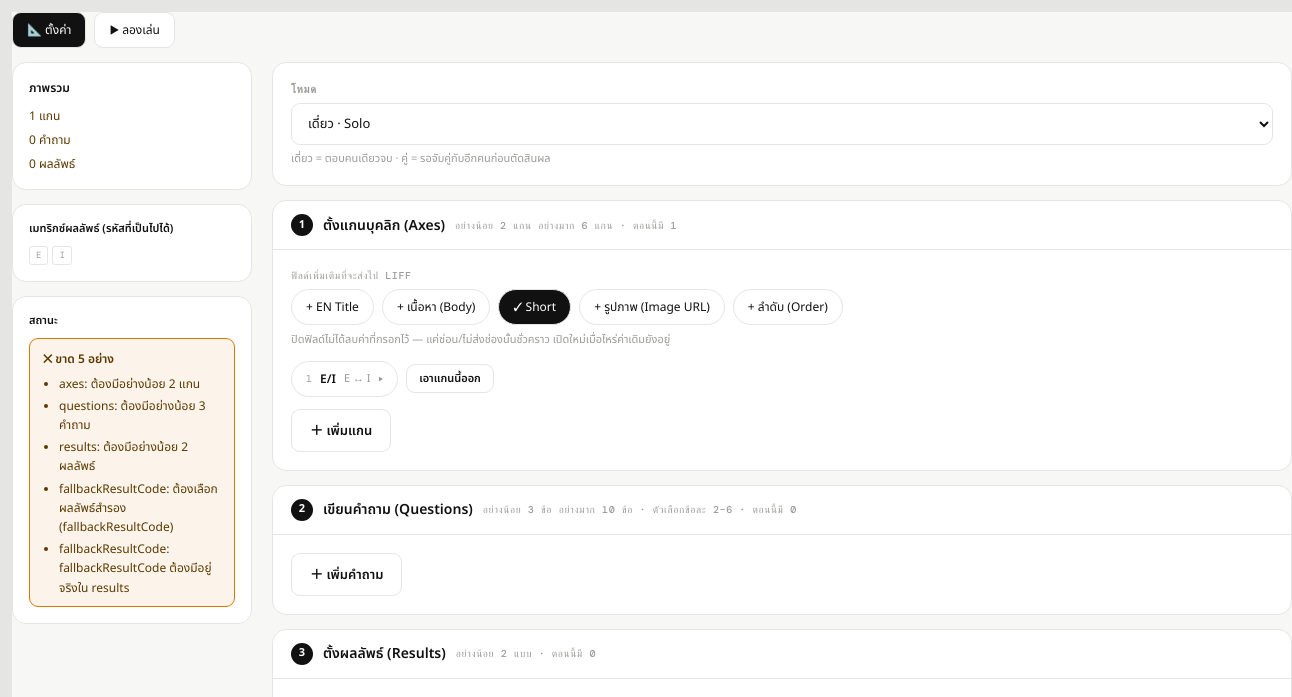
Test: ฟิลด์เสริมของแกน (labelEn/body/short/imageUrl/order) — ปุ่ม toggle ระดับทั้งลิสต์ › โหลด config ที่มีแกนซึ่งตั้ง short ไว้ก่อนแล้ว — ปุ่ม Short เปิดอยู่เองตั้งแต่โหลดหน้า ไม่ต้องกดเอง
Click the button "1 E/I E ↔ I ▸" at (345, 379), box [291, 361, 398, 397]
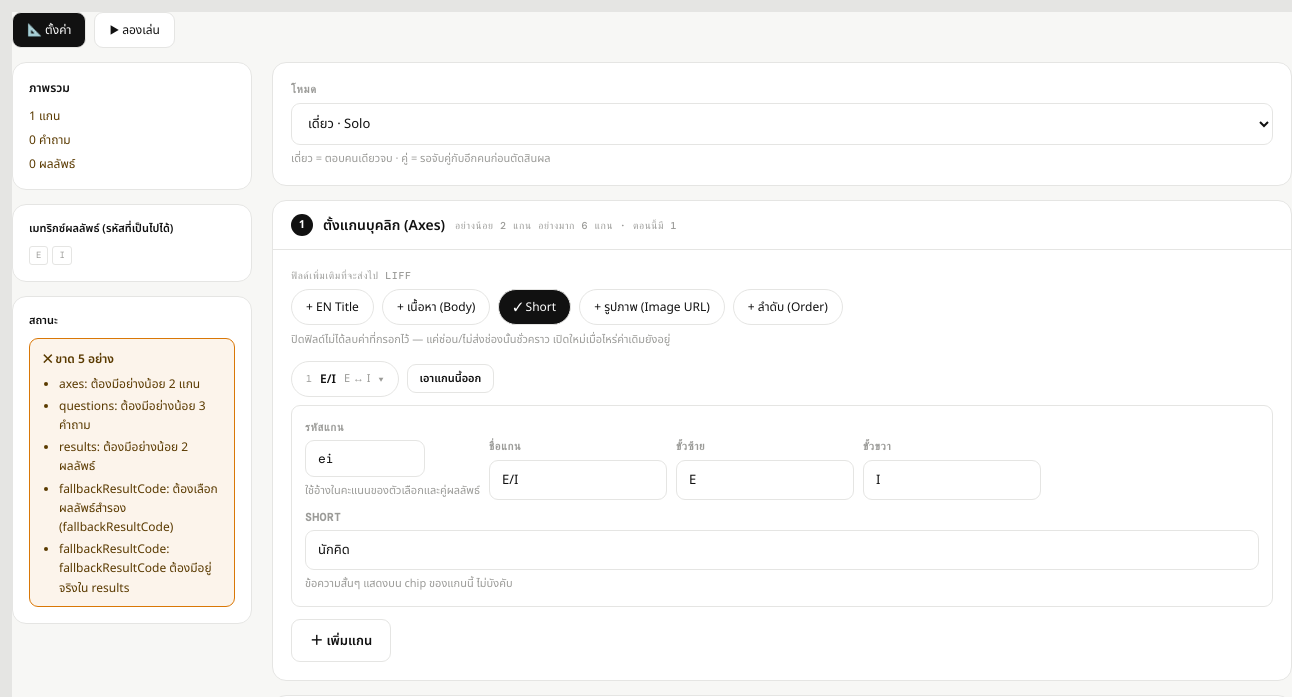
Expected: the field labelled "Short" holds "นักคิด", [305, 530, 1259, 570]
